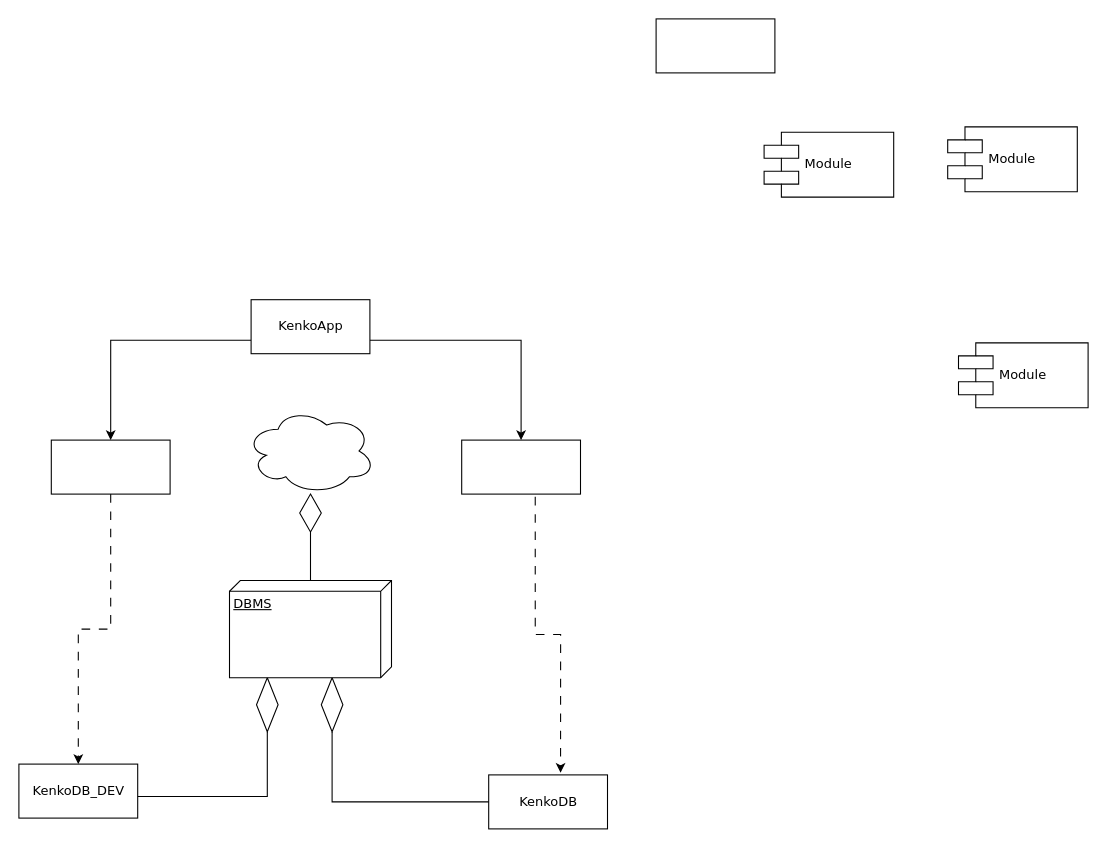
This 1107x848 diagram has some shape labels left out. Each missing label, with the centre of its shape:
Azure Cloud: (310,450)
KenkoDEV: (110,466)
KenkoPROD: (520,466)
«interface» Name: (715,45)
